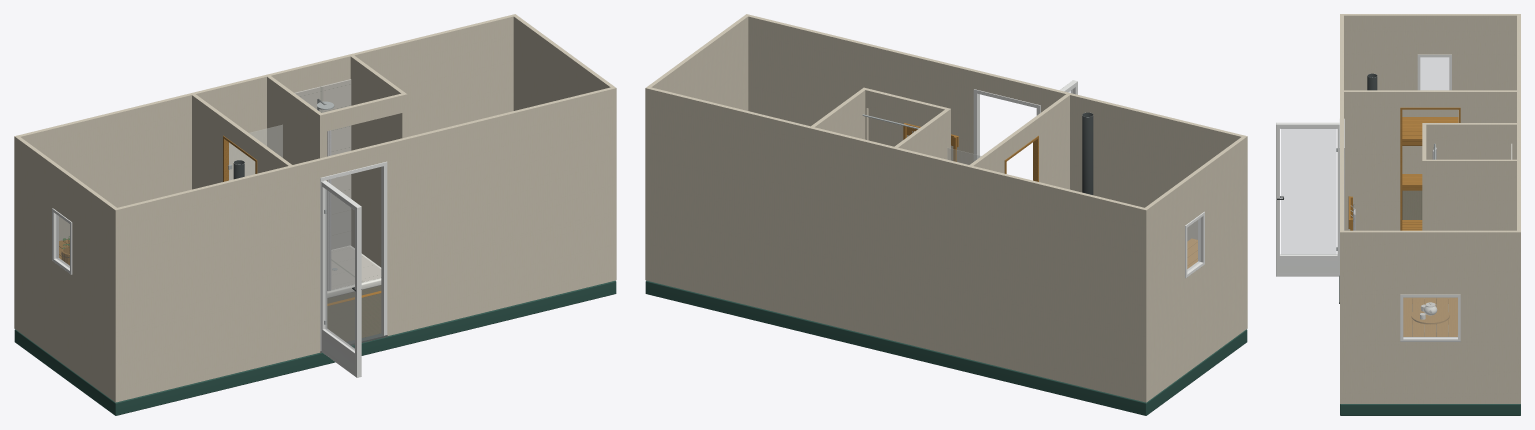
3 views of the same model, side by side, from view 1: azimuth 30°, elevation 25°; view 2: azimuth 150°, elevation 25°; view 3: azimuth 270°, elevation 25° (orthographic). The views are drawn at different scales.
Parts seen in each view (by area): view 1: Wall front band 2, Wall front band 5, Wall front band 6, Wall front band 7, Wall front band 4, Wall front band 1, Wall front band 8, Wall rear band 8, Wall rear band 7, Foundation, Wall rear band 6, Wall front band 0 (+36 smaller); view 2: Wall rear band 2, Wall rear band 4, Wall rear band 7, Wall rear band 5, Wall rear band 6, Wall rear band 1, Wall rear band 8, Wall front band 8, Wall front band 7, Foundation, Wall front band 6, Wall rear band 0 (+22 smaller); view 3: Single PVC glass panel, Wall right band 2, Wall left band 7, Wall right band 6, Wall right band 7, Wall right band 1, Wall left band 6, Wall left band 8, Wall right band 8, Wall top_5_0003 band 8, Wall right band 4, Wall right band 5 (+38 smaller).
Part boxes in pixels (x1=…): Wall front band 2: x1=113, y1=215, x2=616, y2=365; Wall front band 5: x1=113, y1=158, x2=616, y2=306; Wall front band 6: x1=113, y1=132, x2=616, y2=280; Wall front band 7: x1=113, y1=105, x2=616, y2=253; Wall front band 4: x1=113, y1=184, x2=616, y2=332; Wall front band 1: x1=113, y1=243, x2=616, y2=390; Wall front band 8: x1=113, y1=86, x2=616, y2=227; Wall rear band 8: x1=14, y1=14, x2=516, y2=154; Wall rear band 7: x1=14, y1=34, x2=513, y2=181; Foundation: x1=14, y1=280, x2=616, y2=415; Wall rear band 6: x1=14, y1=60, x2=513, y2=207; Wall front band 0: x1=113, y1=268, x2=616, y2=402; Wall rear band 2: x1=645, y1=215, x2=1148, y2=365; Wall rear band 4: x1=645, y1=184, x2=1148, y2=332; Wall rear band 7: x1=645, y1=105, x2=1148, y2=253; Wall rear band 5: x1=645, y1=158, x2=1148, y2=306; Wall rear band 6: x1=645, y1=132, x2=1148, y2=280; Wall rear band 1: x1=645, y1=243, x2=1148, y2=390; Wall rear band 8: x1=645, y1=86, x2=1148, y2=227; Wall front band 8: x1=745, y1=14, x2=1247, y2=154; Wall front band 7: x1=748, y1=34, x2=1247, y2=181; Foundation: x1=645, y1=280, x2=1247, y2=415; Wall front band 6: x1=748, y1=60, x2=1247, y2=207; Wall rear band 0: x1=645, y1=268, x2=1148, y2=402; Single PVC glass panel: x1=1281, y1=129, x2=1336, y2=254; Wall right band 2: x1=1344, y1=345, x2=1516, y2=371; Wall left band 7: x1=1344, y1=31, x2=1516, y2=54; Wall right band 6: x1=1344, y1=271, x2=1516, y2=294; Wall right band 7: x1=1344, y1=248, x2=1516, y2=271; Wall right band 1: x1=1344, y1=371, x2=1516, y2=393; Wall left band 6: x1=1344, y1=54, x2=1516, y2=77; Wall left band 8: x1=1344, y1=14, x2=1516, y2=31; Wall right band 8: x1=1344, y1=230, x2=1516, y2=247; Wall top_5_0003 band 8: x1=1344, y1=90, x2=1516, y2=107; Wall right band 4: x1=1344, y1=318, x2=1516, y2=341; Wall right band 5: x1=1344, y1=294, x2=1516, y2=317.
Size of the model in its own units: 6.02 by 2.36 by 2.84.
35 materials, 16 textured.
